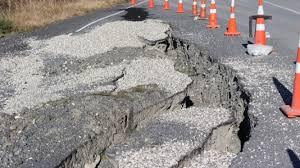Pothole: (13, 47, 268, 168)
